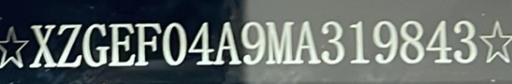letter: (263, 18, 295, 66), (292, 19, 322, 65), (212, 20, 242, 66), (107, 21, 137, 67), (370, 18, 398, 66), (397, 18, 425, 66), (319, 19, 347, 67), (28, 23, 58, 67), (424, 18, 452, 64), (451, 18, 479, 64), (239, 19, 267, 65), (160, 20, 188, 66), (134, 21, 162, 67), (187, 21, 215, 67), (82, 22, 110, 68), (55, 22, 83, 66), (346, 19, 370, 65)
